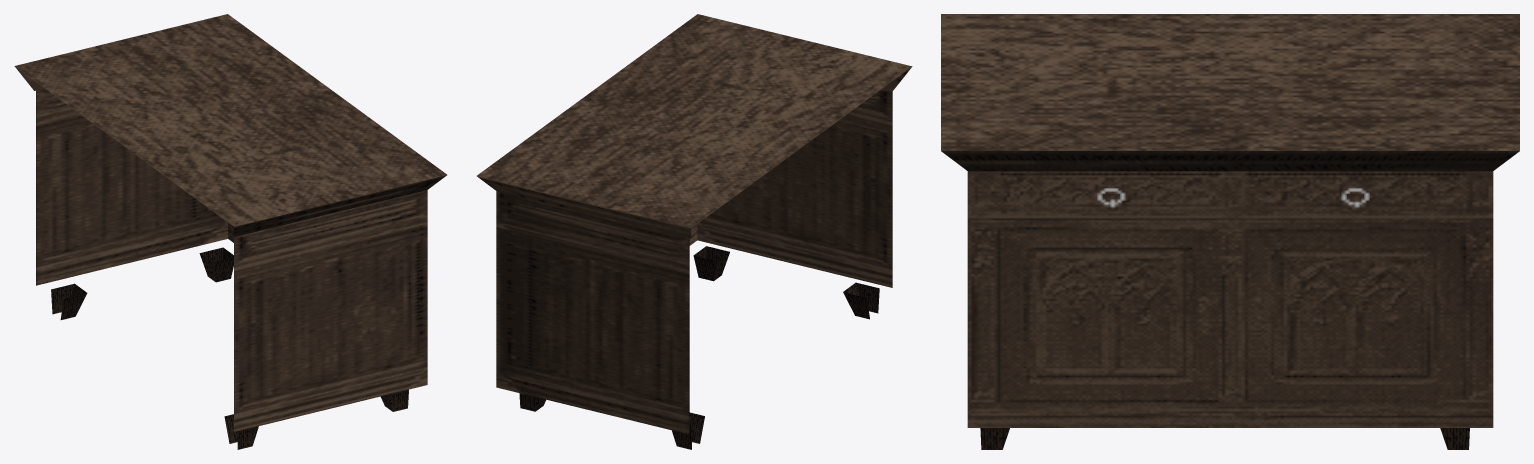
File: bajo.fbx
The picture shows the model from 3 angles, left to right: view 1: azimuth 30°, elevation 25°; view 2: azimuth 150°, elevation 25°; view 3: azimuth 270°, elevation 25°; orthographic projection. The views are drawn at different scales.
Parts seen in each view (by area): view 1: Bajo, patas.002; view 2: Bajo, patas.002; view 3: Bajo, patas.002.
Part boxes in pixels (left/top/right/bottom): Bajo: left=14, top=14, right=447, bottom=431; patas.002: left=51, top=247, right=408, bottom=449; Bajo: left=477, top=14, right=912, bottom=434; patas.002: left=519, top=246, right=879, bottom=449; Bajo: left=941, top=14, right=1519, bottom=427; patas.002: left=980, top=428, right=1469, bottom=449.
Size of the model in its own units: 165 by 92.41 by 98.8.
Materials: 2 (2 with a texture image).
